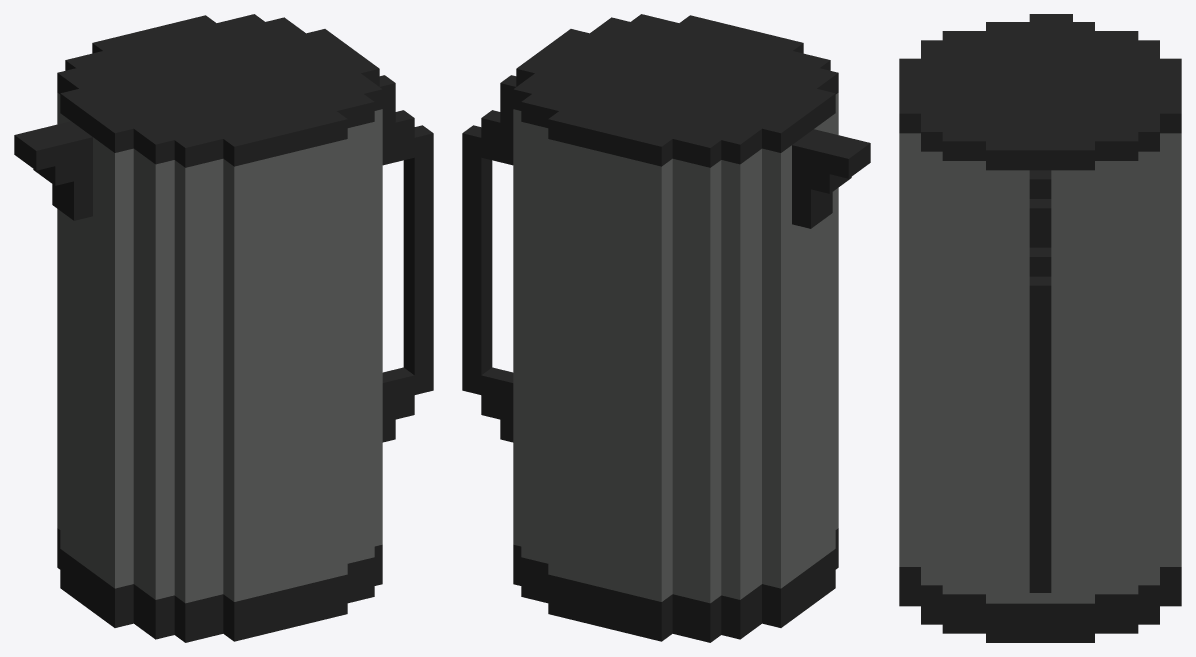
Rendered from Tetera.obj.
The picture shows the model from 3 angles, left to right: view 1: azimuth 30°, elevation 25°; view 2: azimuth 150°, elevation 25°; view 3: azimuth 270°, elevation 25°; orthographic projection.
Bounding box in the file's own units: 2.1 × 2.5 × 1.3.
Materials: 1 (1 with a texture image).
